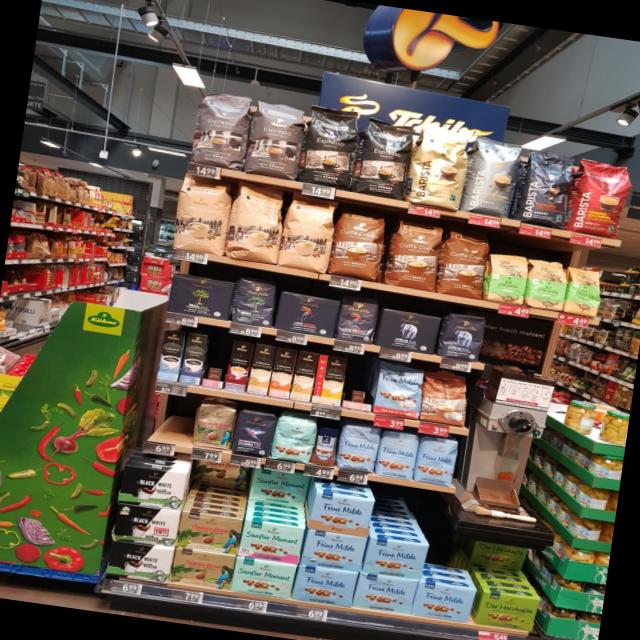AB Bohne: (436, 310, 488, 364)
AB Gemahlen: (372, 307, 442, 357)
Athiopien Bohne: (563, 264, 605, 320)
Athiopien Gemahlen: (484, 252, 532, 308), (523, 258, 570, 314)
BM Bohne: (230, 276, 280, 328)
BM Gemahlen: (166, 272, 237, 323)
BW Gemahlen: (118, 464, 188, 512), (112, 503, 181, 550), (106, 539, 174, 586)
Barista CB: (406, 118, 474, 214)
Barista CC: (462, 132, 522, 220)
Barista Espresso: (516, 141, 580, 232)
Barista Kolumbien: (569, 154, 636, 242)
C Fino Bohne: (230, 406, 278, 459)
CC Mild: (170, 174, 236, 258), (224, 180, 288, 266), (277, 191, 338, 275)
CC Vollmundig: (418, 366, 472, 427)
CC Vollmundig 36 Pads: (379, 214, 446, 294), (436, 224, 496, 302), (329, 208, 390, 282), (268, 346, 298, 400)
Colombia BB Bohne: (192, 398, 238, 453)
Colombia BB Gemahlen: (176, 510, 244, 558), (168, 546, 236, 592)
Empty Shelf: (156, 394, 200, 446), (342, 356, 378, 412), (201, 336, 231, 390)
Espresso Aromatisch: (187, 88, 256, 175), (243, 97, 308, 182)
Espresso Kraftig: (351, 111, 419, 202), (296, 104, 364, 192)
FM 36 Pads: (370, 360, 428, 420)
FM Bohne: (336, 421, 384, 476), (374, 426, 420, 481), (413, 433, 459, 488)
FM Gemahlen: (361, 534, 431, 582), (308, 489, 376, 538), (300, 528, 368, 574), (292, 564, 359, 610), (352, 571, 419, 616), (411, 580, 478, 623)
FM Instant: (310, 422, 342, 467)
Herzhatfe Mundig: (474, 590, 542, 632)
LG Bohne: (335, 295, 382, 346)
LG Gemahlen: (273, 290, 340, 338)
SM Bohne: (271, 412, 319, 464)
SM Gemahlen: (238, 520, 305, 566), (230, 556, 298, 600), (247, 466, 310, 508)
Simo CCMild: (312, 353, 348, 408)
Simo Decaff: (246, 342, 276, 398)
Simo Es Kraft: (224, 339, 254, 394)
Simo Kaffee Kraft: (180, 332, 209, 386)
Simo Kaffee Mild: (157, 328, 186, 382)
